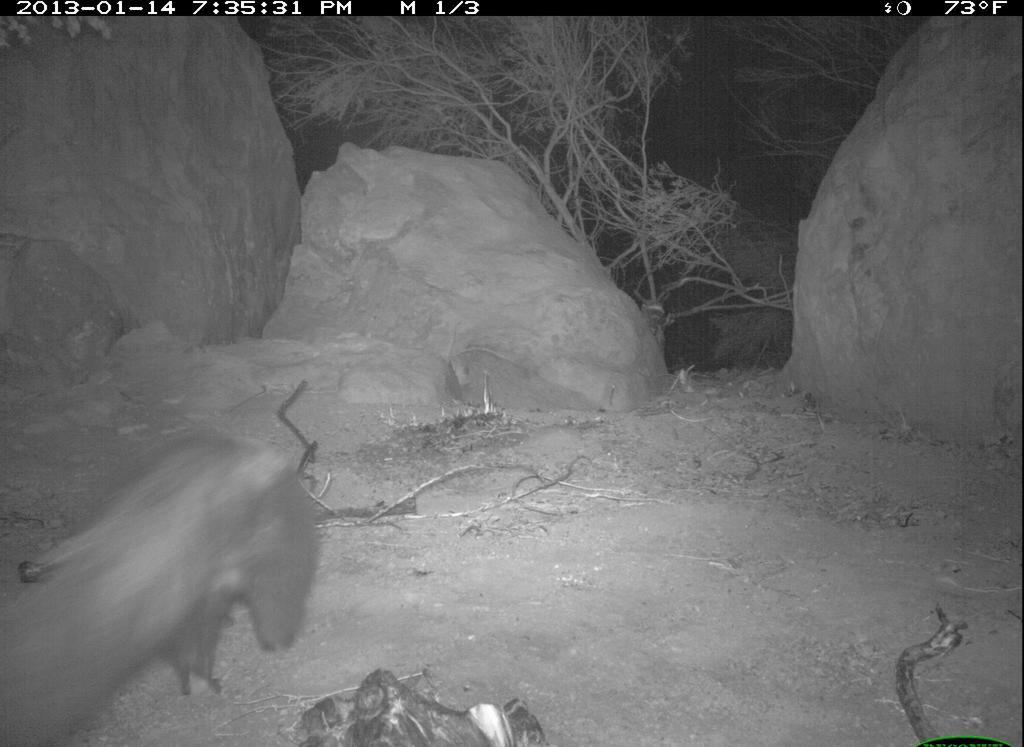skunk: (4, 415, 344, 743)
